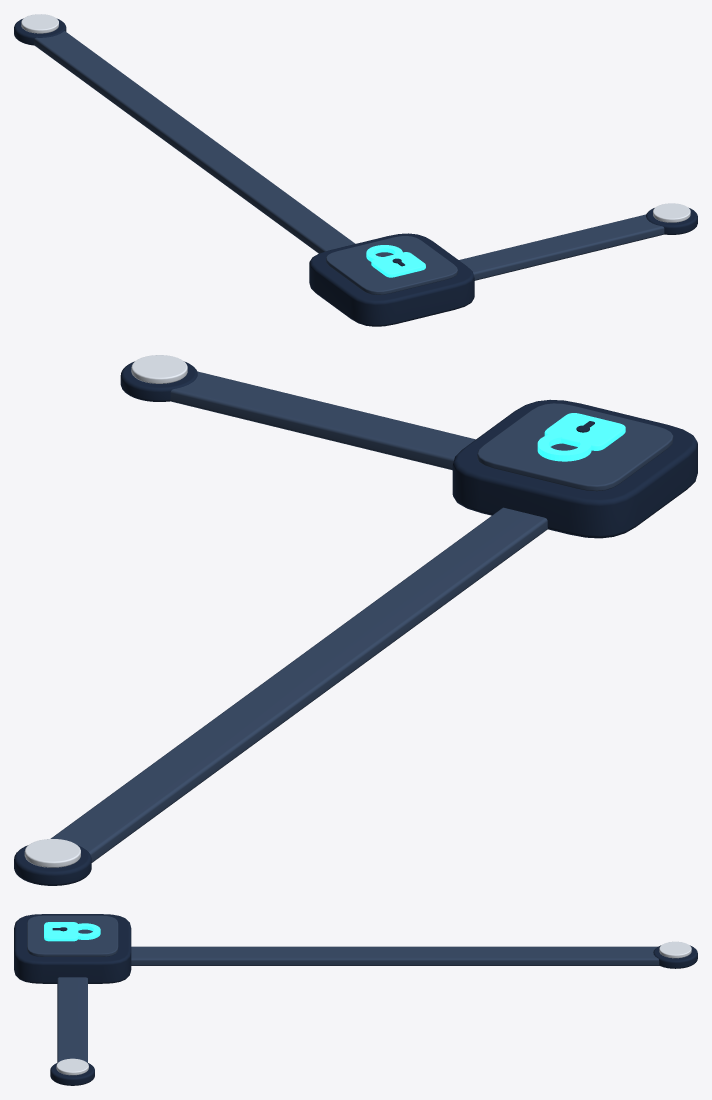
File: AFJ_Lock_L.fbx
The picture shows the model from 3 angles, top to bottom: view 1: azimuth 30°, elevation 25°; view 2: azimuth 150°, elevation 25°; view 3: azimuth 270°, elevation 25°; orthographic projection. The views are drawn at different scales.
Parts seen in each view (by area): view 1: Strap.005, Lock_Housing.002, Strap.006, Lock_Face.002, Lock_Icon_Body.002, Anchor_Base.006, Anchor_Cap.006, Anchor_Cap.005, Anchor_Base.005; view 2: Strap.005, Lock_Housing.002, Strap.006, Lock_Face.002, Lock_Icon_Body.002, Anchor_Base.005, Anchor_Base.006, Anchor_Cap.006, Anchor_Cap.005, Lock_Icon_Arch.002; view 3: Strap.005, Lock_Housing.002, Lock_Face.002, Strap.006, Lock_Icon_Body.002, Anchor_Base.006, Anchor_Base.005, Anchor_Cap.006, Anchor_Cap.005, Lock_Icon_Arch.002.
Part boxes in pixels (x1,y1,x2,y2): Strap.005: (34,31,355,253); Lock_Housing.002: (309,233,474,326); Strap.006: (459,214,664,280); Lock_Face.002: (326,236,457,294); Lock_Icon_Body.002: (371,252,425,277); Anchor_Base.006: (646,208,697,234); Anchor_Cap.006: (653,203,690,222); Anchor_Cap.005: (21,14,58,33); Anchor_Base.005: (14,18,66,45); Strap.005: (50,507,547,862); Lock_Housing.002: (452,399,697,538); Strap.006: (170,371,475,470); Lock_Face.002: (477,403,673,491); Lock_Icon_Body.002: (544,413,625,450); Anchor_Base.005: (14,845,91,885); Anchor_Base.006: (120,361,197,401); Anchor_Cap.006: (131,355,187,383); Anchor_Cap.005: (24,839,80,867); Lock_Icon_Arch.002: (537,432,591,461); Strap.005: (131,946,659,965); Lock_Housing.002: (14,914,131,983); Lock_Face.002: (27,915,118,956); Strap.006: (57,977,87,1062); Lock_Icon_Body.002: (44,922,78,941); Anchor_Base.006: (50,1062,94,1085); Anchor_Base.005: (653,945,697,968); Anchor_Cap.006: (56,1058,88,1075); Anchor_Cap.005: (659,941,691,958); Lock_Icon_Arch.002: (69,923,100,939).
Bounding box in the file's own units: 110 × 10.6 × 210.
